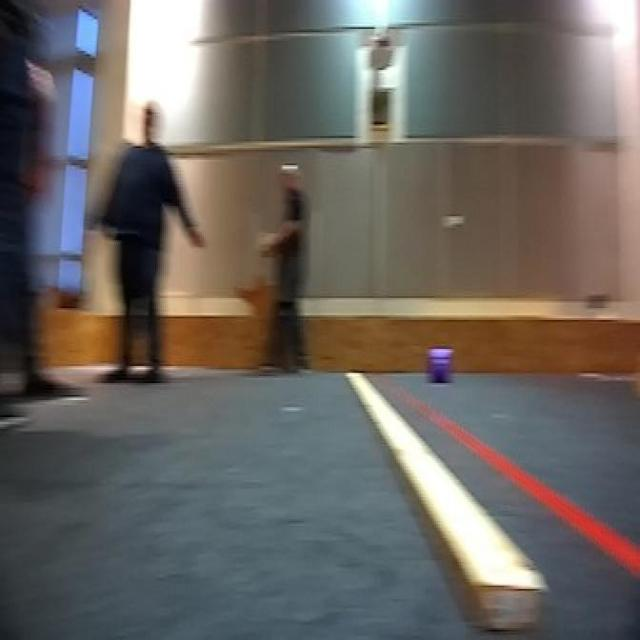frc_cube: (426, 349, 456, 390)
